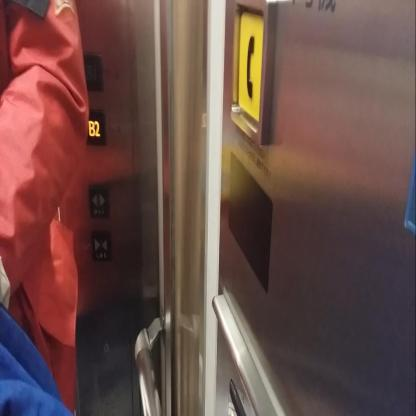B2: (82, 107, 107, 150)
blur: (81, 51, 104, 92)
call: (230, 0, 272, 146)
close: (90, 226, 112, 264)
open: (87, 184, 111, 220)
